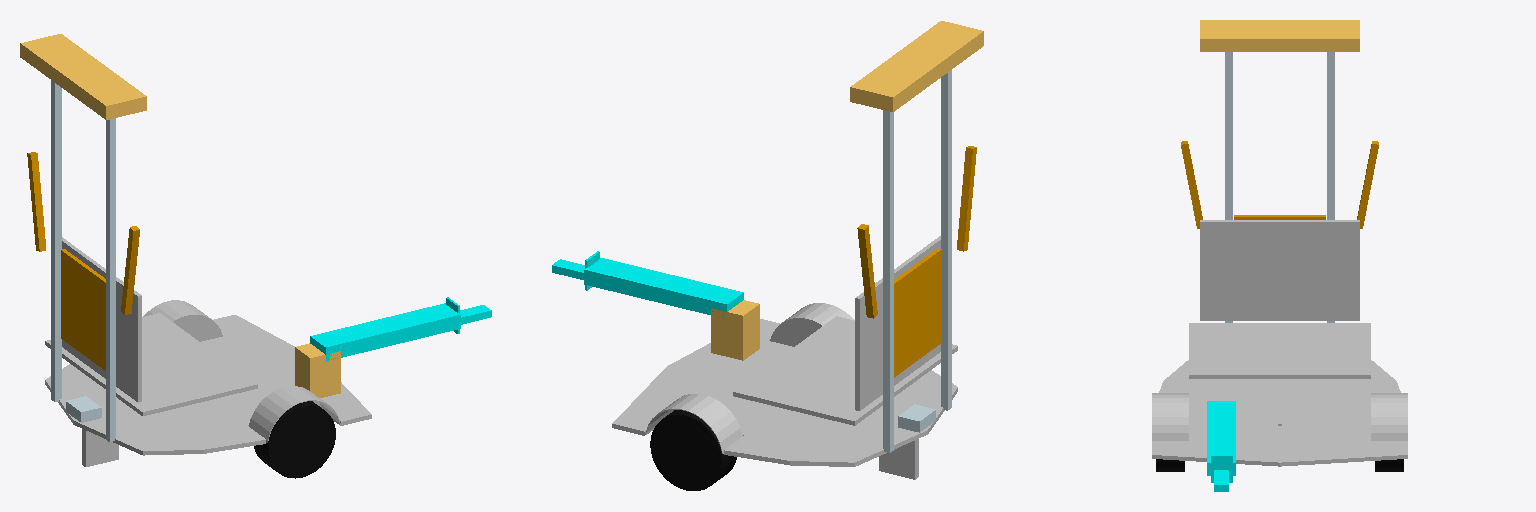
URDF robot description (robik):
<?xml version="1.0" ?>
<!-- =================================================================================== -->
<!-- |    This document was autogenerated by xacro from [local-path]/workspace/src/robik/model/v3/robik.urdf.xacro | -->
<!-- |    EDITING THIS FILE BY HAND IS NOT RECOMMENDED                                 | -->
<!-- =================================================================================== -->
<!-- (x/red +dopredu -dozadu) (y/green -levo +vpravo) (z/blue -dolu +nahoru) -->
<robot name="robik" xmlns:xacro="http://ros.org/wiki/xacro">
  <!-- materials -->
  <material name="clear_plastic">
    <color rgba="0.81 0.81 0.81 0.5"/>
  </material>
  <material name="alum">
    <color rgba="0.81 0.88 0.91 1"/>
  </material>
  <material name="wood">
    <color rgba="1 0.81 0.4 1"/>
  </material>
  <material name="jetson">
    <texture filename="package://robik/model/v3/textures/jetson.jpg"/>
  </material>
  <!-- base -->
  <link name="base_link">
    <visual name="base">
      <origin rpy="0 0 0" xyz="0 0 0.065"/>
      <geometry>
        <mesh filename="package://robik/model/v3/meshes/base-binary.stl" scale="1.0 1.0 1.0"/>
      </geometry>
      <material name="clear_plastic"/>
    </visual>
    <collision>
      <origin rpy="0 0 0" xyz="-0.06 0 0.065"/>
      <geometry>
        <box size="0.365 0.352 0.006"/>
      </geometry>
    </collision>
    <collision>
      <origin rpy="0 0 0" xyz="0.115 0 0.071"/>
      <geometry>
        <box size="0.01 0.352 0.01"/>
      </geometry>
    </collision>
    <visual name="caster">
      <origin rpy="0 0 0" xyz="-0.20 0 0.0325"/>
      <geometry>
        <box size="0.05 0.01 0.065"/>
      </geometry>
      <material name="clear_plastic"/>
    </visual>
    <collision>
      <origin rpy="0 0 0" xyz="-0.20 0 0.0325"/>
      <geometry>
        <box size="0.05 0.01 0.065"/>
      </geometry>
    </collision>
    <visual name="{$name_tmpl}_visual">
      <origin rpy="0 0 0" xyz="-0.225 0.07 0.3075"/>
      <geometry>
        <box size="0.01 0.01 0.485"/>
      </geometry>
      <material name="alum"/>
    </visual>
    <collision>
      <origin rpy="0 0 0" xyz="-0.225 0.07 0.3075"/>
      <geometry>
        <box size="0.01 0.01 0.485"/>
      </geometry>
    </collision>
    <visual name="{$name_tmpl}_visual">
      <origin rpy="0 0 0" xyz="-0.225 -0.07 0.3075"/>
      <geometry>
        <box size="0.01 0.01 0.485"/>
      </geometry>
      <material name="alum"/>
    </visual>
    <collision>
      <origin rpy="0 0 0" xyz="-0.225 -0.07 0.3075"/>
      <geometry>
        <box size="0.01 0.01 0.485"/>
      </geometry>
    </collision>
    <visual name="head_base">
      <origin rpy="0 0 0" xyz="-0.225 0 0.55"/>
      <geometry>
        <box size="0.06 0.22 0.02"/>
      </geometry>
      <material name="wood"/>
    </visual>
    <collision>
      <origin rpy="0 0 0" xyz="-0.225 0 0.55"/>
      <geometry>
        <box size="0.06 0.22 0.02"/>
      </geometry>
    </collision>
    <visual name="jetson">
      <origin rpy="0 0 0" xyz="-0.22 0 0.2175"/>
      <geometry>
        <box size="0.006 0.125 0.125"/>
      </geometry>
      <material name="jetson"/>
    </visual>
    <collision>
      <origin rpy="0 0 0" xyz="-0.22 0 0.2175"/>
      <geometry>
        <box size="0.006 0.125 0.125"/>
      </geometry>
    </collision>
    <visual name="jetson_cover">
      <origin rpy="0 0 0" xyz="-0.205 0 0.205"/>
      <geometry>
        <box size="0.006 0.22 0.15"/>
      </geometry>
      <material name="clear_plastic"/>
    </visual>
    <collision>
      <origin rpy="0 0 0" xyz="-0.205 0 0.205"/>
      <geometry>
        <box size="0.006 0.22 0.15"/>
      </geometry>
    </collision>
    <visual name="arduino_cover">
      <origin rpy="0 0 0" xyz="-0.125 0 0.12"/>
      <geometry>
        <box size="0.17 0.25 0.006"/>
      </geometry>
      <material name="clear_plastic"/>
    </visual>
    <collision>
      <origin rpy="0 0 0" xyz="-0.125 0 0.12"/>
      <geometry>
        <box size="0.17 0.25 0.006"/>
      </geometry>
    </collision>
    <visual name="{$name_tmpl}_visual">
      <origin rpy="-0.1745 0 0" xyz="-0.225 0.12 0.325"/>
      <geometry>
        <box size="0.01 0.01 0.13"/>
      </geometry>
      <material name="wheel"/>
    </visual>
    <collision>
      <origin rpy="-0.1745 0 0" xyz="-0.225 0.12 0.325"/>
      <geometry>
        <box size="0.01 0.01 0.13"/>
      </geometry>
    </collision>
    <visual name="{$name_tmpl}_visual">
      <origin rpy="0.1745 0 0" xyz="-0.225 -0.12 0.325"/>
      <geometry>
        <box size="0.01 0.01 0.13"/>
      </geometry>
      <material name="wheel"/>
    </visual>
    <collision>
      <origin rpy="0.1745 0 0" xyz="-0.225 -0.12 0.325"/>
      <geometry>
        <box size="0.01 0.01 0.13"/>
      </geometry>
    </collision>
  </link>
  <!--
	<link name="base_footprint" />
	<link name="base_stabilized" />

	<joint name="base_footprint_joint" type="fixed">
		<origin xyz="0 0 0" rpy="0 0 0" />
		<parent link="base_footprint"/>
		<child link="base_stabilized"/>
	</joint>

	<joint name="base_stabilized_joint" type="fixed">
		<origin xyz="0 0 0" rpy="0 0 0" />
		<parent link="base_stabilized"/>
		<child link="base_link"/>
	</joint>
-->
  <link name="left_wheel">
    <visual>
      <origin rpy="0 1.57079632679 1.57079632679" xyz="0 0 0"/>
      <geometry>
        <cylinder length="0.04" radius="0.05"/>
      </geometry>
      <material name="black_wheel">
        <color rgba="0.1 0.1 0.1 1"/>
      </material>
    </visual>
  </link>
  <link name="right_wheel">
    <visual>
      <origin rpy="0 1.57079632679 1.57079632679" xyz="0 0 0"/>
      <geometry>
        <cylinder length="0.04" radius="0.05"/>
      </geometry>
      <material name="black_wheel">
        <color rgba="0.1 0.1 0.1 1"/>
      </material>
    </visual>
  </link>
  <joint name="wheel_left_joint" type="continuous">
    <origin rpy="0 0 0" xyz="0 0.15 0.05"/>
    <parent link="base_link"/>
    <child link="left_wheel"/>
  </joint>
  <joint name="wheel_right_joint" type="continuous">
    <origin rpy="0 0 0" xyz="0 -0.15 0.05"/>
    <parent link="base_link"/>
    <child link="right_wheel"/>
  </joint>
  <link name="rear_sonar_link">
    <visual>
      <origin rpy="0 0 0" xyz="-0.015 0 0"/>
      <geometry>
        <box size="0.03 0.04 0.015"/>
      </geometry>
      <material name="alum"/>
    </visual>
  </link>
  <joint name="rear_sonar_joint" type="fixed">
    <parent link="base_link"/>
    <child link="rear_sonar_link"/>
    <origin rpy="0 0 3.14159265359" xyz="-0.24 0 0.08"/>
  </joint>
  <!--  <xacro:include filename="$(find robik)/model/v3/kinect_gazebo.urdf.xacro"/> -->
  <joint name="camera_rgb_joint" type="fixed">
    <origin rpy="0 0.262 0" xyz="-0.19 0 0.59"/>
    <parent link="base_link"/>
    <child link="camera_rgb_frame"/>
  </joint>
  <link name="camera_rgb_frame">
    <inertial>
      <mass value="0.001"/>
      <origin xyz="0 0 0"/>
      <inertia ixx="0.0001" ixy="0.0" ixz="0.0" iyy="0.0001" iyz="0.0" izz="0.0001"/>
    </inertial>
  </link>
  <joint name="camera_rgb_optical_joint" type="fixed">
    <origin rpy="-1.57079632679 0 -1.57079632679" xyz="0 0 0"/>
    <parent link="camera_rgb_frame"/>
    <child link="camera_rgb_optical_frame"/>
  </joint>
  <link name="camera_rgb_optical_frame">
    <inertial>
      <mass value="0.001"/>
      <origin xyz="0 0 0"/>
      <inertia ixx="0.0001" ixy="0.0" ixz="0.0" iyy="0.0001" iyz="0.0" izz="0.0001"/>
    </inertial>
  </link>
  <joint name="camera_joint" type="fixed">
    <origin rpy="0 0 0" xyz="-0.031 0 -0.016"/>
    <parent link="camera_rgb_frame"/>
    <child link="camera_link"/>
  </joint>
  <link name="camera_link">
    <visual>
      <origin rpy="0 0 1.57079632679" xyz="0 0 0"/>
      <geometry>
        <mesh filename="package://robik/model/v3/meshes/kinect.dae"/>
      </geometry>
    </visual>
    <collision>
      <origin rpy="0 0 0" xyz="0.0 0.0 0.0"/>
      <geometry>
        <box size="0.07271 0.27794 0.073"/>
      </geometry>
    </collision>
    <inertial>
      <mass value="0.001"/>
      <origin xyz="0 0 0"/>
      <inertia ixx="0.0001" ixy="0.0" ixz="0.0" iyy="0.0001" iyz="0.0" izz="0.0001"/>
    </inertial>
  </link>
  <!-- The fixed joints & links below are usually published by static_transformers launched by the OpenNi launch
          files. However, for Gazebo simulation we need them, so we add them here.
          (Hence, don't publish them additionally!) -->
  <joint name="camera_depth_joint" type="fixed">
    <origin rpy="0 0 0" xyz="0 0 0"/>
    <parent link="camera_rgb_frame"/>
    <child link="camera_depth_frame"/>
  </joint>
  <link name="camera_depth_frame">
    <inertial>
      <mass value="0.001"/>
      <origin xyz="0 0 0"/>
      <inertia ixx="0.0001" ixy="0.0" ixz="0.0" iyy="0.0001" iyz="0.0" izz="0.0001"/>
    </inertial>
  </link>
  <joint name="camera_depth_optical_joint" type="fixed">
    <origin rpy="-1.57079632679 0 -1.57079632679" xyz="0 0 0"/>
    <parent link="camera_depth_frame"/>
    <child link="camera_depth_optical_frame"/>
  </joint>
  <link name="camera_depth_optical_frame">
    <inertial>
      <mass value="0.001"/>
      <origin xyz="0 0 0"/>
      <inertia ixx="0.0001" ixy="0.0" ixz="0.0" iyy="0.0001" iyz="0.0" izz="0.0001"/>
    </inertial>
  </link>
  <!-- Kinect sensor for simulation -->
  <turtlebot_sim_3dsensor/>
  <link name="base_scan_link"/>
  <joint name="base_scan_joint" type="fixed">
    <parent link="base_link"/>
    <child link="base_scan_link"/>
    <origin rpy="0 0 0" xyz="-0.19 0 0.59"/>
  </joint>
  <!-- arm -->
  <link name="yaw_link">
    <visual>
      <origin rpy="0 0 0" xyz="0 0 0.03"/>
      <geometry>
        <box size="0.045 0.04 0.06"/>
      </geometry>
      <material name="wood"/>
    </visual>
  </link>
  <joint name="yaw_joint" type="revolute">
    <parent link="base_link"/>
    <child link="yaw_link"/>
    <origin rpy="0 0 0" xyz="0.075 -0.08 0.068"/>
    <axis xyz="0 0 -1"/>
    <limit effort="1000" lower="-1.8675023" upper="1.099557429" velocity="1"/>
  </joint>
  <link name="shoulder_link">
    <visual>
      <origin rpy="0 0 0" xyz="0 0.0675 0"/>
      <geometry>
        <box size="0.04 0.135 0.02"/>
      </geometry>
      <material name="wood">
        <color rgba="0 1.0 1.0 1.0"/>
      </material>
    </visual>
  </link>
  <joint name="shoulder_joint" type="revolute">
    <parent link="yaw_link"/>
    <child link="shoulder_link"/>
    <origin rpy="0 0 -1.570796327" xyz="0.0 0 0.06"/>
    <axis xyz="1 0 0"/>
    <limit effort="1000" lower="0" upper="2.094395102" velocity="1"/>
  </joint>
  <link name="elbow_link">
    <visual>
      <origin rpy="0 0 0" xyz="0 0.0325 0"/>
      <geometry>
        <box size="0.04 0.065 0.02"/>
      </geometry>
      <material name="wood">
        <color rgba="0 1.0 1.0 1.0"/>
      </material>
    </visual>
  </link>
  <joint name="elbow_joint" type="revolute">
    <parent link="shoulder_link"/>
    <child link="elbow_link"/>
    <origin rpy="0 0 0" xyz="0 0.135 0"/>
    <axis xyz="1 0 0"/>
    <limit effort="1000" lower="-1.919862177" upper="0.6981317008" velocity="1"/>
  </joint>
  <link name="roll_link">
    <visual>
      <geometry>
        <box size="0.03 0.003 0.04"/>
      </geometry>
      <material name="wood">
        <color rgba="0 1.0 1.0 1.0"/>
      </material>
    </visual>
  </link>
  <joint name="roll_joint" type="revolute">
    <parent link="elbow_link"/>
    <child link="roll_link"/>
    <origin rpy="0 0 0" xyz="0 0.065 0"/>
    <axis xyz="0 1 0"/>
    <limit effort="1000" lower="-1.570796327" upper="1.570796327" velocity="1"/>
  </joint>
  <link name="clamp_link">
    <visual>
      <origin rpy="0 0 0" xyz="0 0.025 0"/>
      <geometry>
        <box size="0.02 0.05 0.01"/>
      </geometry>
      <material name="alum">
        <color rgba="0 1.0 1.0 1.0"/>
      </material>
    </visual>
  </link>
  <joint name="clamp_joint" type="revolute">
    <parent link="roll_link"/>
    <child link="clamp_link"/>
    <origin rpy="0 0 0" xyz="0 0.001 -0.005"/>
    <axis xyz="-1 0 0"/>
    <limit effort="1000" lower="0" upper="0.6981317008" velocity="1"/>
    <!--<mimic joint="clamp_joint" multiplier="-1" offset="0"/>-->
  </joint>
</robot>

--- Render facts (derived) ---
Views: 3 orthographic renders of the robot side by side, from view 1: azimuth 30°, elevation 25°; view 2: azimuth 150°, elevation 25°; view 3: azimuth 270°, elevation 25°.
Robot: robik — 15 links, 14 joints (5 revolute, 2 continuous, 7 fixed); root link base_link; default pose: all joints at 0.
Links seen in each view (by area): view 1: base_link, right_wheel, shoulder_link, yaw_link, elbow_link, rear_sonar_link; view 2: base_link, left_wheel, shoulder_link, yaw_link, elbow_link, rear_sonar_link; view 3: base_link, shoulder_link.
Link boxes in pixels (x1,y1,x2,y2): base_link: (20, 34, 371, 466); right_wheel: (254, 401, 335, 478); shoulder_link: (310, 314, 416, 361); yaw_link: (295, 343, 340, 397); elbow_link: (402, 303, 460, 338); rear_sonar_link: (66, 396, 101, 422); base_link: (612, 21, 983, 479); left_wheel: (650, 410, 736, 490); shoulder_link: (631, 269, 743, 318); yaw_link: (711, 300, 759, 360); elbow_link: (584, 258, 645, 295); rear_sonar_link: (898, 404, 935, 432); base_link: (1152, 20, 1407, 466); shoulder_link: (1207, 401, 1235, 442).
Bounding box of the posed robot: 0.581 × 0.35 × 0.56 m (x, y, z).
Meshes: 2 distinct files referenced, 1 mesh visuals loaded (1 binary STL); not drawn: 1 (reference not matched to a file when rendering).
